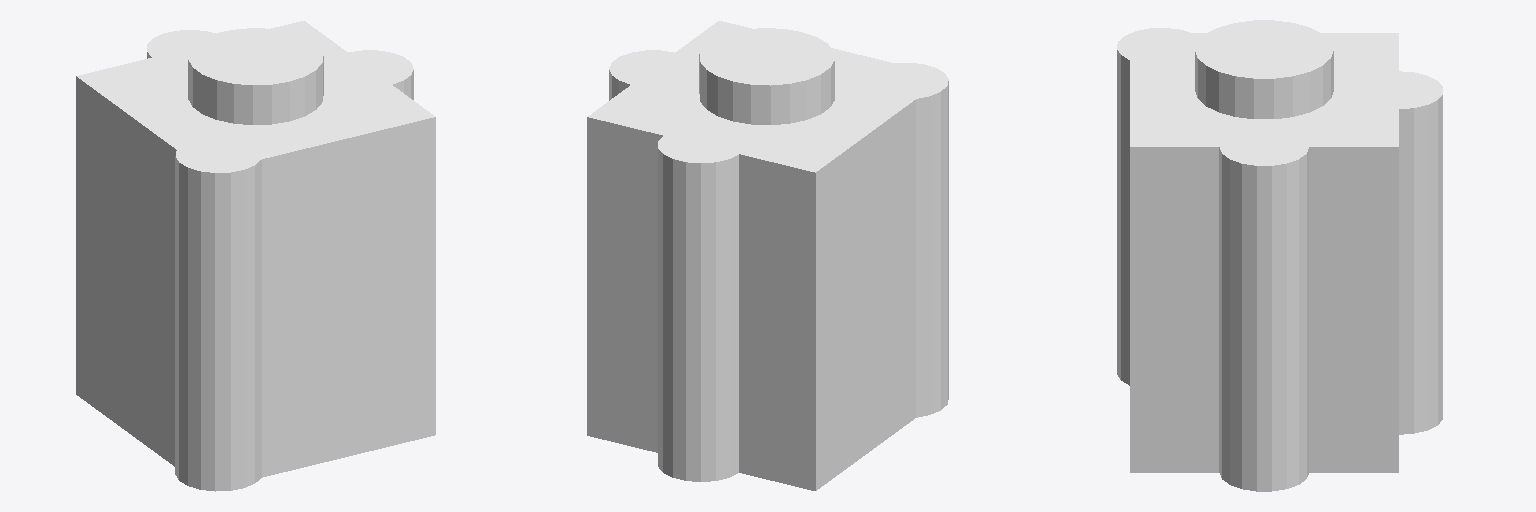
robot.urdf — irregular:
<?xml version="1.0" encoding="utf-8"?>
<!-- This URDF was automatically created by SolidWorks to URDF Exporter! Originally created by Stephen Brawner (brawner@gmail.com) 
     Commit Version: 1.6.0-4-g7f85cfe  Build Version: 1.6.7995.38578
     For more information, please see http://wiki.ros.org/sw_urdf_exporter -->
<robot
  name="irregular">
  <link
    name="base_link">
    <inertial>
      <origin
        xyz="0.000471533743886664 0.000471533743886665 0.0205221327428395"
        rpy="0 0 0" />
      <mass
        value="0.0406560209567301" />
      <inertia
        ixx="9.0494324346721E-06"
        ixy="-9.30310743710379E-08"
        ixz="1.00096427449068E-08"
        iyy="9.04943243467211E-06"
        iyz="1.00096427449068E-08"
        izz="6.57183212341783E-06" />
    </inertial>
    <visual>
      <origin
        xyz="0 0 0"
        rpy="0 0 0" />
      <geometry>
        <mesh
          filename="package://irregular/meshes/base_link.STL" />
      </geometry>
      <material
        name="">
        <color
          rgba="1 1 1 1" />
      </material>
    </visual>
    <collision>
      <origin
        xyz="0 0 0"
        rpy="0 0 0" />
      <geometry>
        <mesh
          filename="package://irregular/meshes/base_link.STL" />
      </geometry>
    </collision>
  </link>
</robot>

--- Facts derived from the render (not from the file) ---
3 views of the same robot in one strip: view 1: azimuth 30°, elevation 25°; view 2: azimuth 150°, elevation 25°; view 3: azimuth 270°, elevation 25° (orthographic).
Robot: irregular — 1 links, 0 joints (none); root link base_link; default pose: every joint at zero.
Links seen in each view (by area): view 1: base_link; view 2: base_link; view 3: base_link.
Boxes of the visible links, x1,y1,x2,y2 form: base_link: (76, 21, 435, 491); base_link: (587, 21, 948, 490); base_link: (1117, 20, 1442, 491).
Bounding box of the posed robot: 0.0364 × 0.0364 × 0.045 m (x, y, z).
Meshes: 1 distinct files referenced, 1 mesh visuals loaded (1 binary STL).
